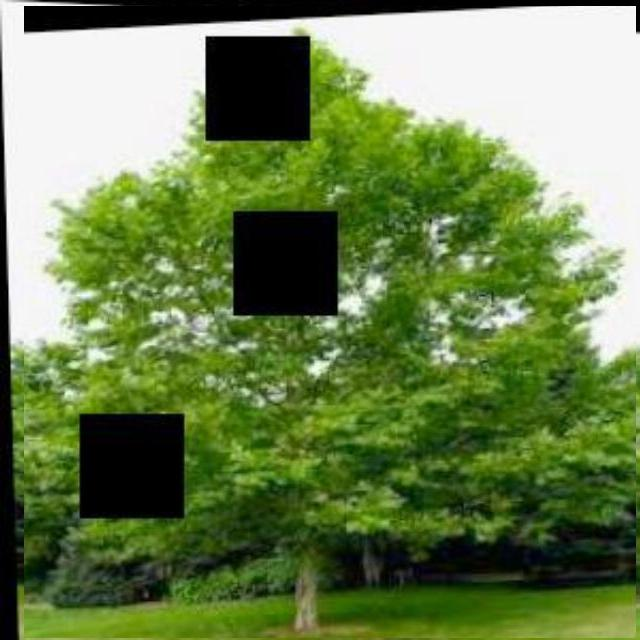tree: (24, 6, 636, 638)
